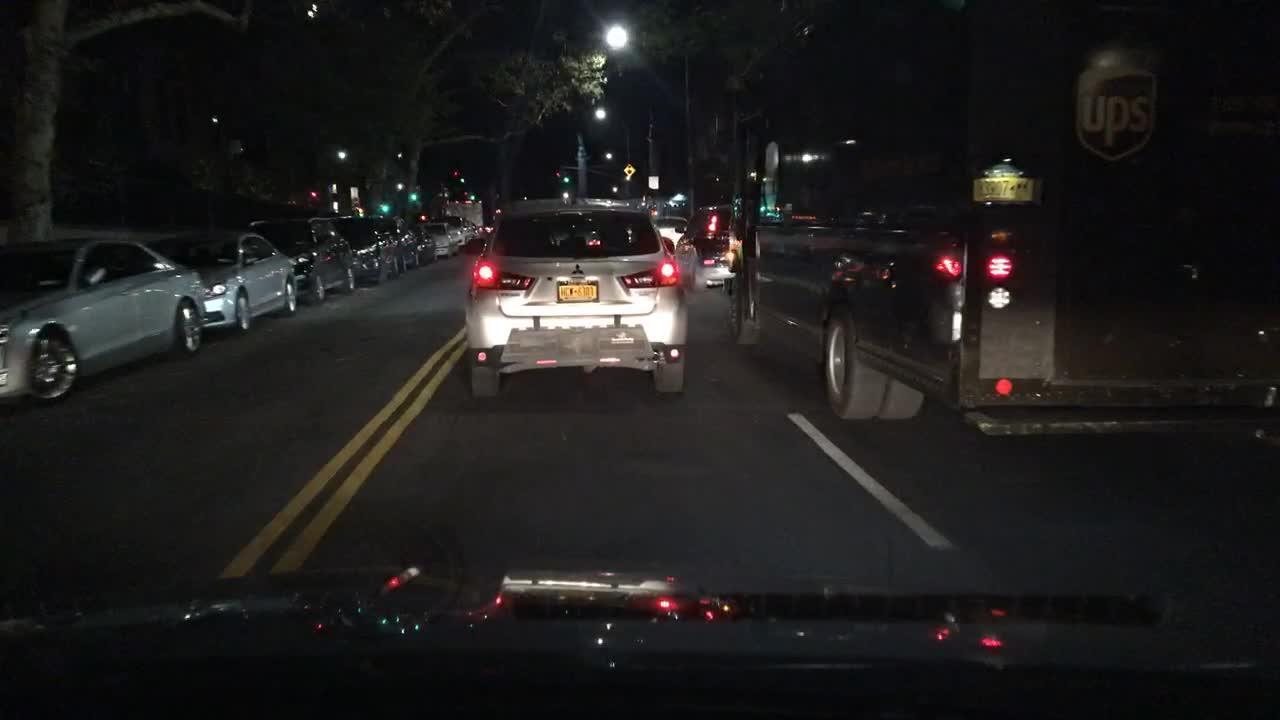Mitsubishi: (566, 261, 590, 282)
